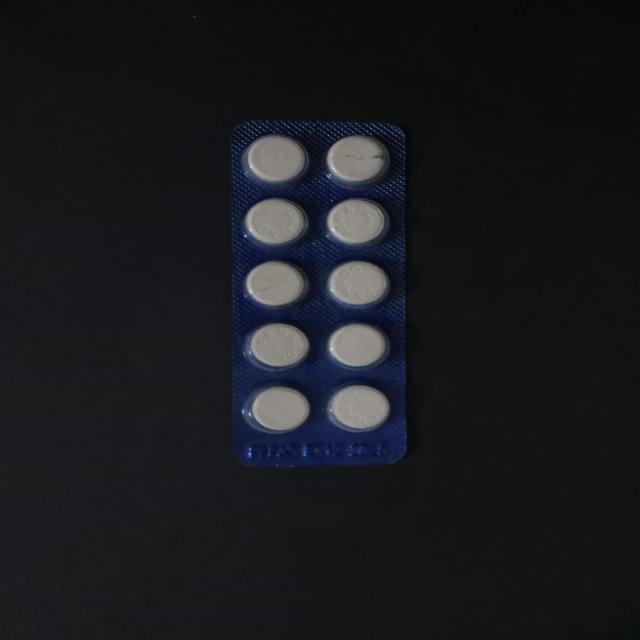defect: (322, 133, 398, 188), (240, 256, 315, 311)
